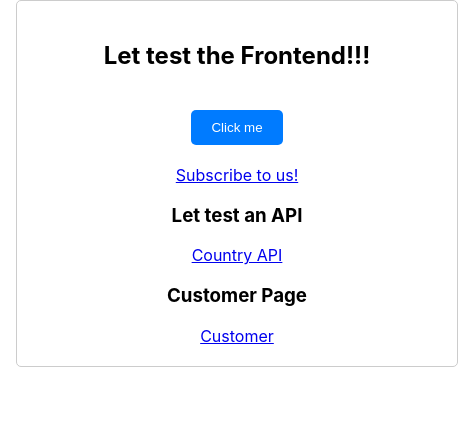
Test case: template spec › Basic interactions › Button Click
The image size is (475, 436).
Click the button with class "data-button" at [238, 128], box [192, 110, 283, 145]
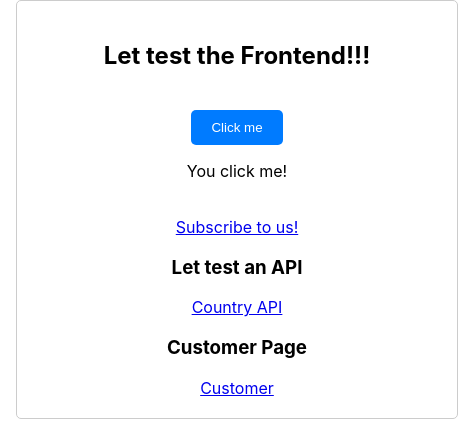
Result: the text "You click me!" is shown at [187, 161, 287, 181]
